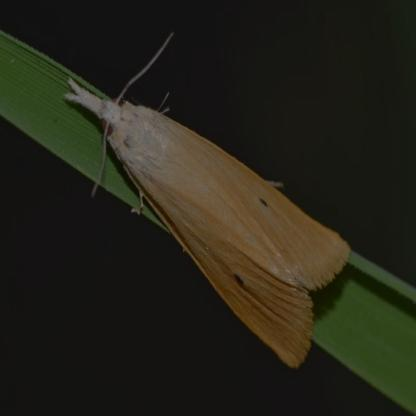stem-borer: (62, 32, 352, 372)
